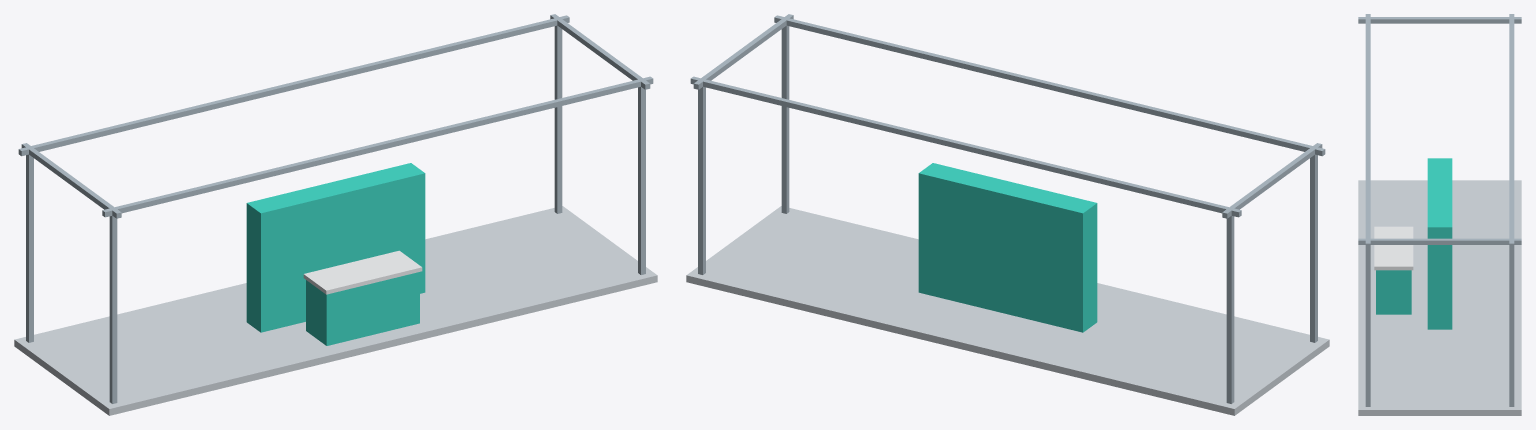
3 renders of one model, left to right at view 1: azimuth 30°, elevation 25°; view 2: azimuth 150°, elevation 25°; view 3: azimuth 270°, elevation 25°, orthographic. The views are drawn at different scales.
Visible parts, largest first — view 1: Exhibition Booth Concept; view 2: Exhibition Booth Concept; view 3: Exhibition Booth Concept.
Boxes of the visible parts, bbox=[...] form: Exhibition Booth Concept: bbox=[14, 14, 657, 415]; Exhibition Booth Concept: bbox=[686, 14, 1329, 415]; Exhibition Booth Concept: bbox=[1358, 14, 1521, 415].
Size of the model in its own units: 10 by 3.49 by 3.
